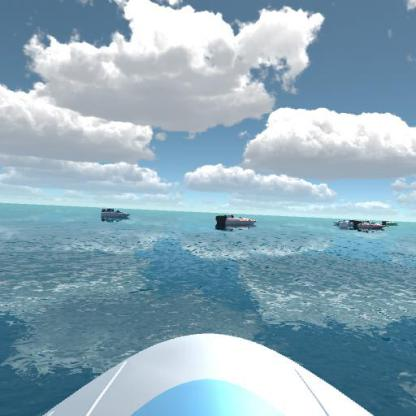usv0: (381, 218, 401, 228)
usv1: (99, 204, 134, 222), (331, 214, 359, 230)
usv3: (214, 210, 258, 230), (353, 216, 386, 234)
